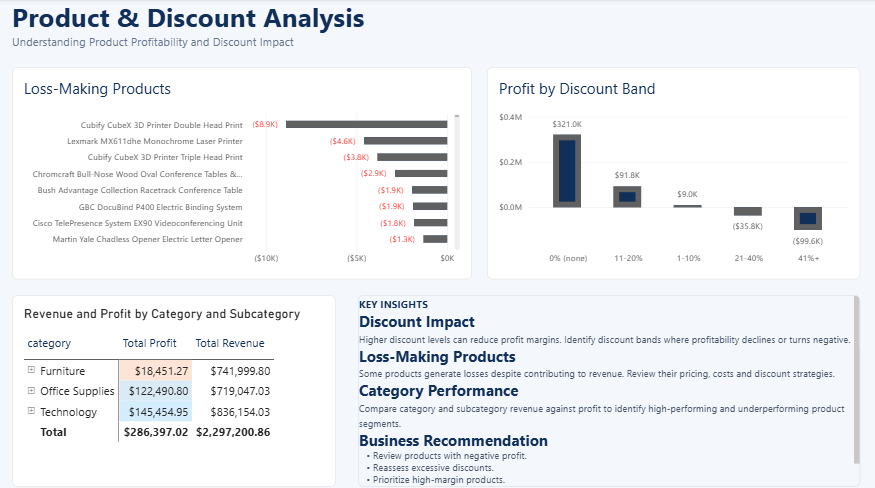

The page's visual inventory and layout, read from the dashboard file:
{"tool":"powerbi","page":{"name":"Product & Discount Analysis","canvas":[1280,720],"ordinal":1},"visuals":[{"type":"textbox","box":[42.5,0,1183.5,79.4],"z":0},{"type":"clusteredBarChart","title":"Loss-Making Products","fields":{"Category":["public sales_clean.product_name"],"Y":["public sales_clean.Total Profit"]},"box":[42,95.7,651.8,300.7],"z":1000},{"type":"clusteredColumnChart","title":"Profit by Discount Band","fields":{"Category":["public sales_clean.discount_band"],"Y":["public sales_clean.Total Profit"]},"box":[715.6,95.7,529.1,300.7],"z":2000},{"type":"pivotTable","title":"Revenue and Profit by Category and Subcategory","fields":{"Rows":["public sales_clean.category","public sales_clean.sub_category"],"Values":["public sales_clean.Total Profit","public sales_clean.Total Revenue"]},"box":[42,419.9,458.6,272.1],"z":3000},{"type":"textbox","box":[532.5,419.9,712.2,272.1],"z":4000}]}

Visuals, with their boxes in screenshot pixels (x1, y1, x2, y2), scaled from the page's 1280x720 canvas onto the 875x488 screenshot:
textbox: box(29, 0, 838, 54)
"Loss-Making Products" clusteredBarChart: box(29, 65, 474, 269)
"Profit by Discount Band" clusteredColumnChart: box(489, 65, 851, 269)
"Revenue and Profit by Category and Subcategory" pivotTable: box(29, 285, 342, 469)
textbox: box(364, 285, 851, 469)
